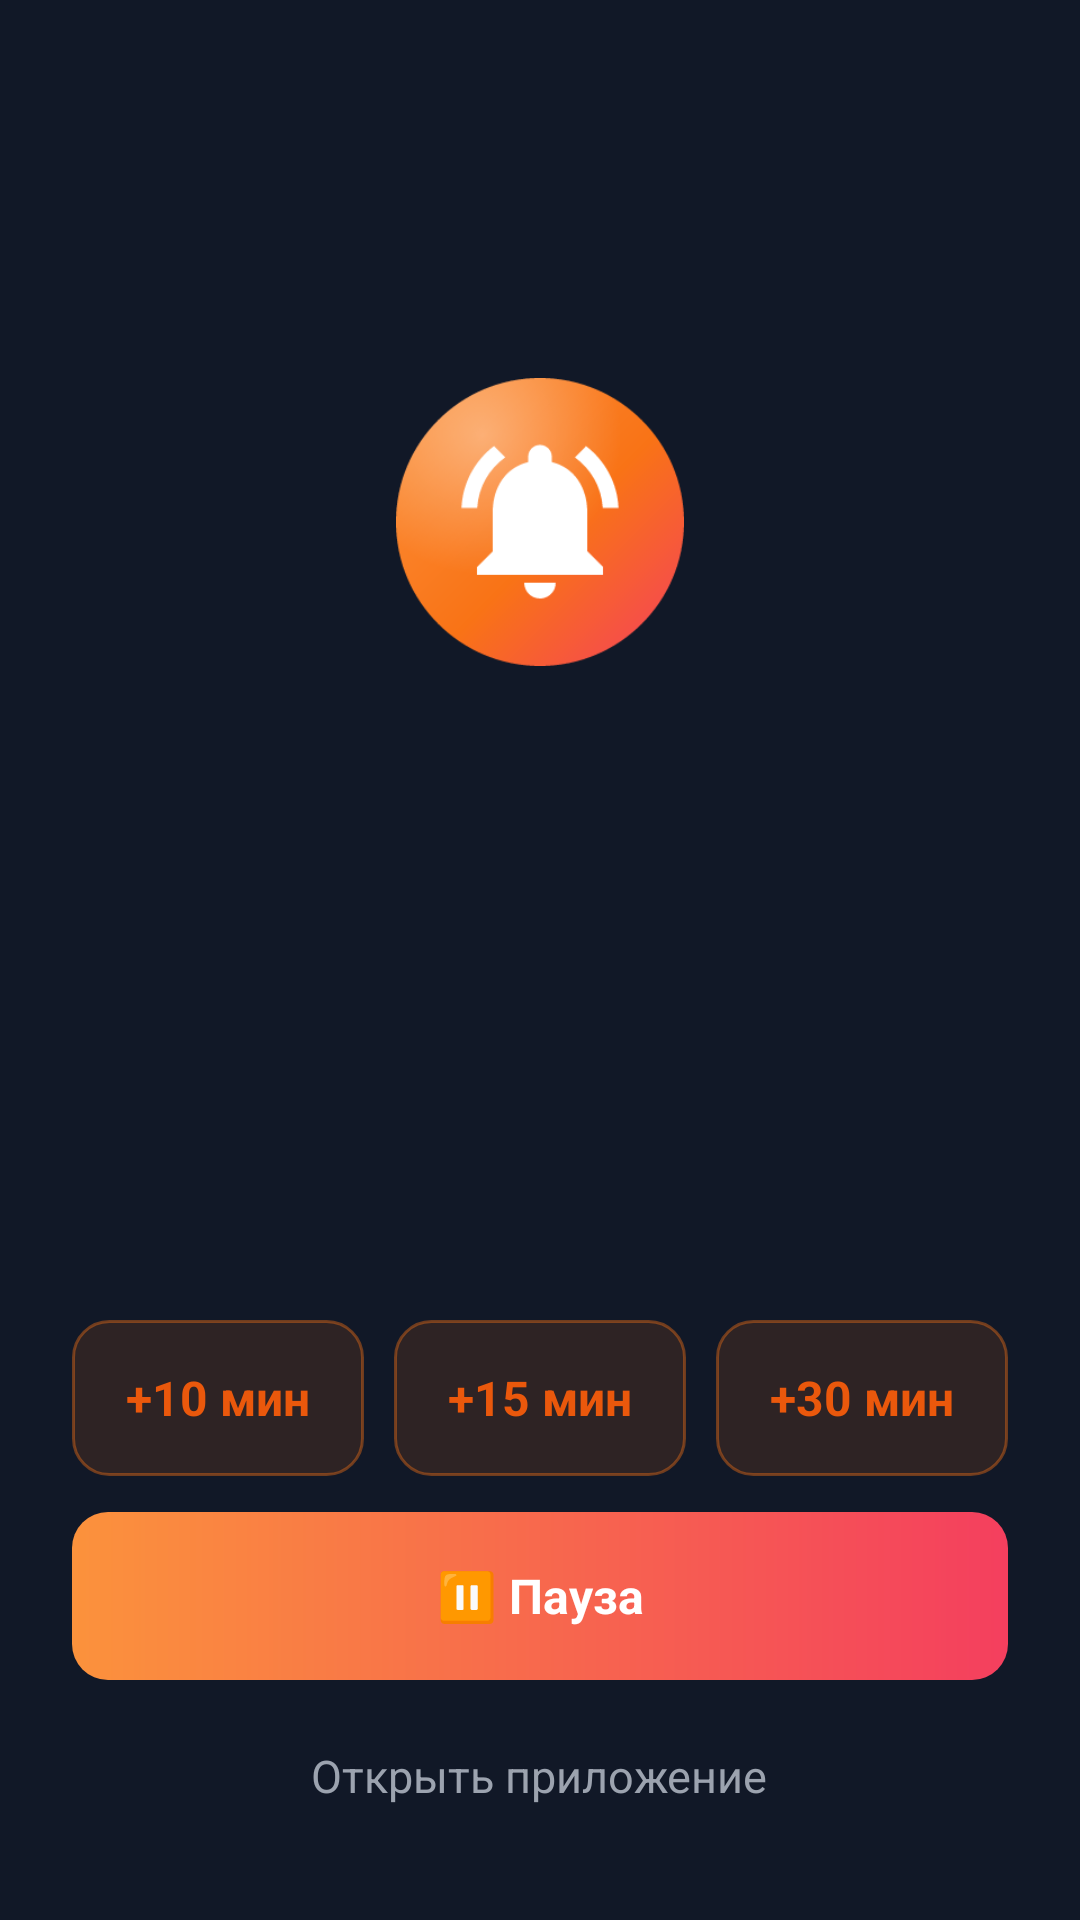

Point at icon controls on the screen. Image size 1080px×1920px, points as (x,y).
alarm: (540,522)
